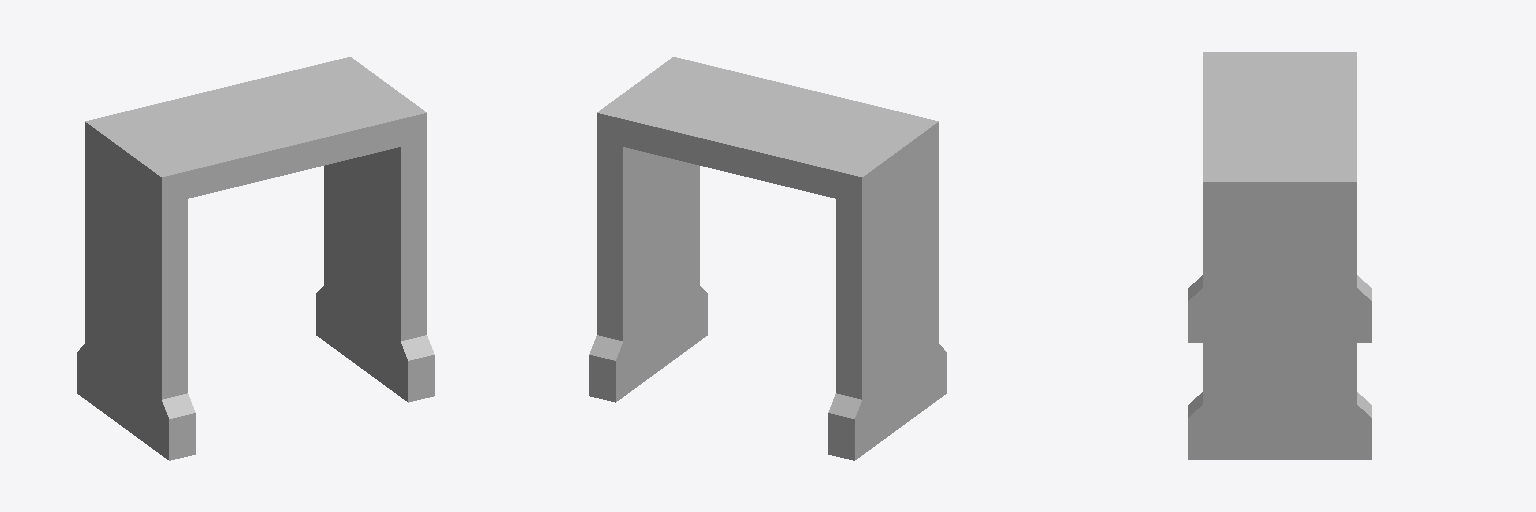
The model's file is door.obj.
The picture shows the model from 3 angles: view 1: azimuth 30°, elevation 25°; view 2: azimuth 150°, elevation 25°; view 3: azimuth 270°, elevation 25°; orthographic projection.
Visible parts, largest first — view 1: wall-door-rotate; view 2: wall-door-rotate; view 3: wall-door-rotate.
Part boxes in pixels (x1,y1,x2,y2): wall-door-rotate: (77,57,434,460); wall-door-rotate: (589,57,946,460); wall-door-rotate: (1188,52,1371,459).
Bounding box in the file's own units: 1 × 1 × 0.6.